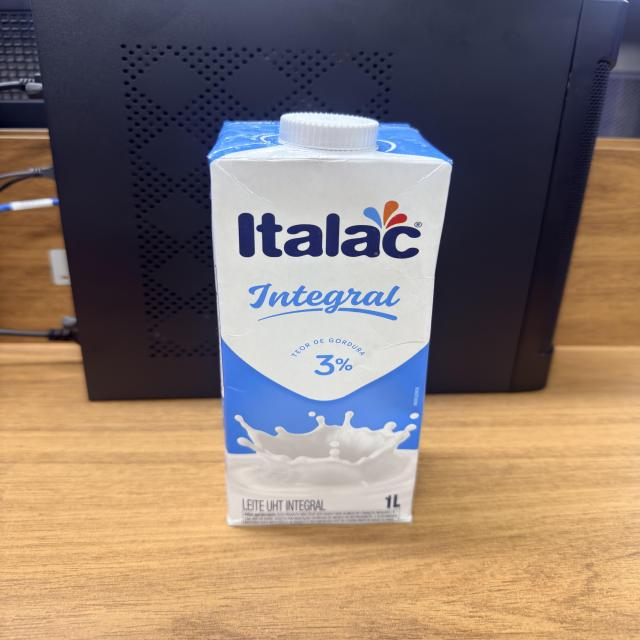Caixa de Leite: (207, 118, 449, 514)
